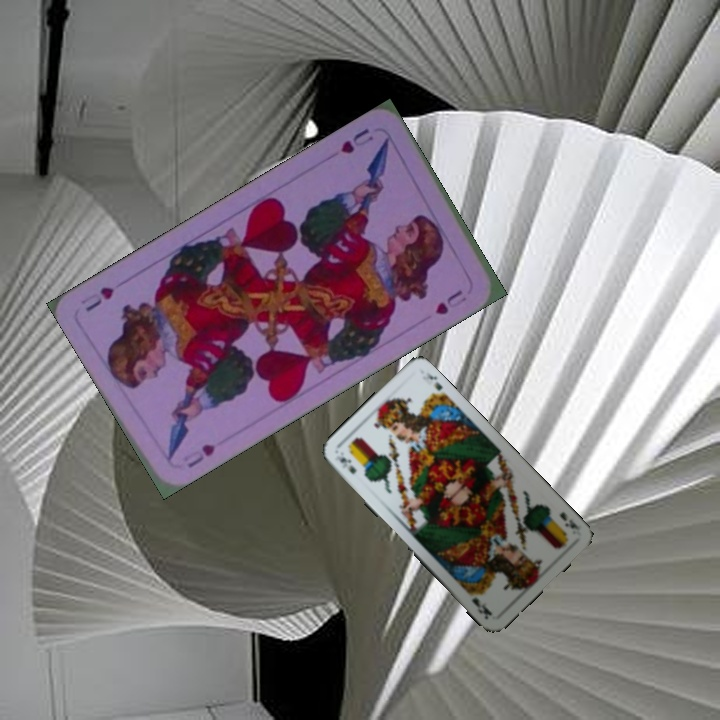EK: (556, 508, 582, 533), (334, 453, 359, 477)
HU: (336, 124, 376, 157), (178, 439, 218, 471)
